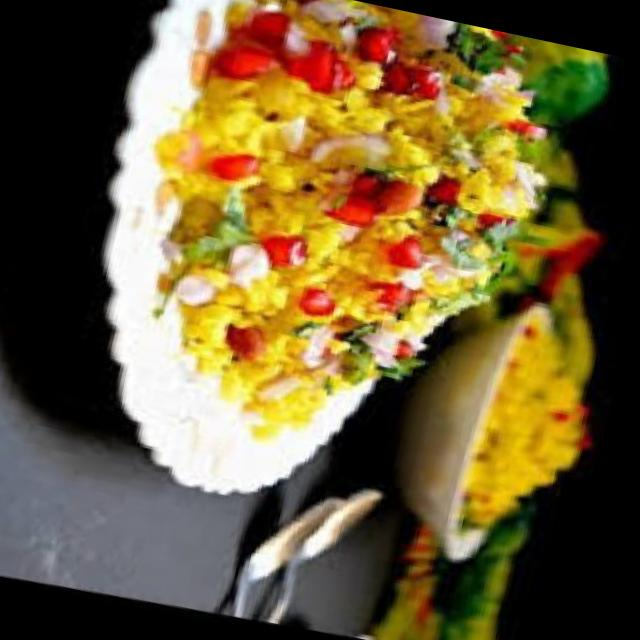poha: (88, 0, 577, 492), (457, 315, 619, 552)
